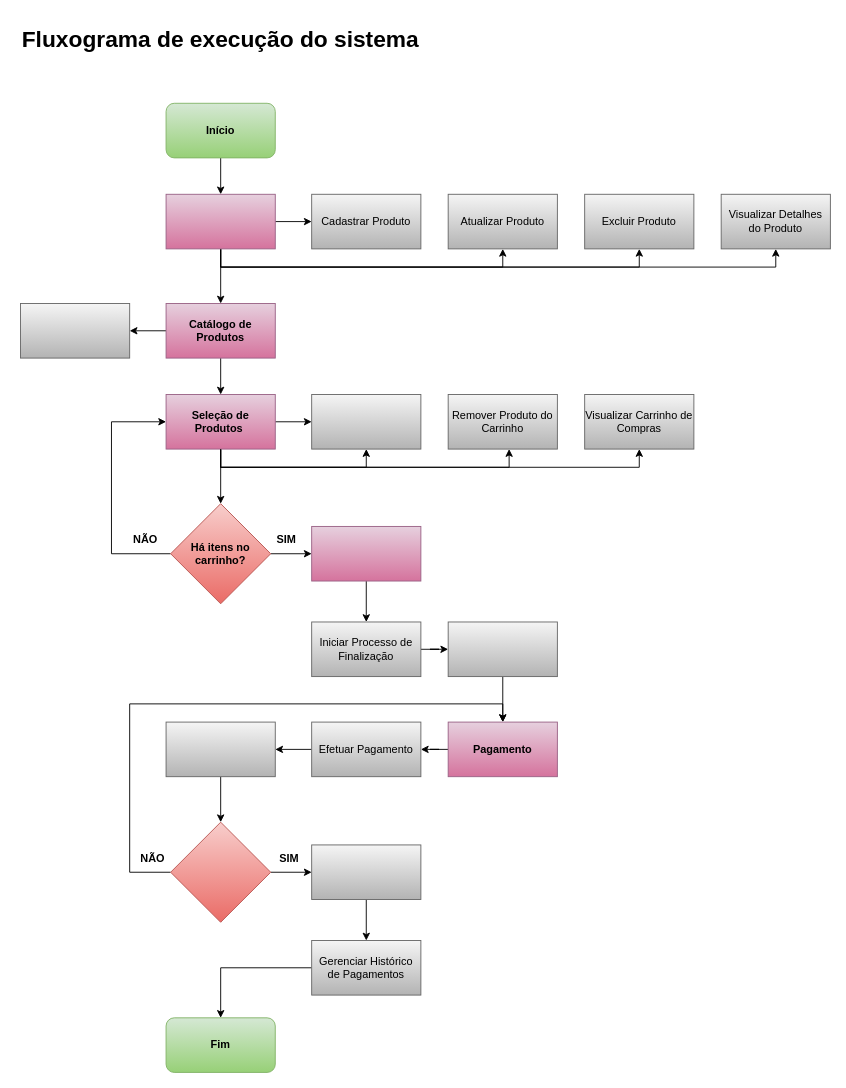
Some shapes in this 846 by 1088 pixel diagram are drawn without their labels. Each missing label, with the centre of its shape:
"Adicionar Produto ao Carrinho" belongs at (x=366, y=421).
"Confirmar Método de Pagamento" belongs at (x=502, y=649).
"Confirmar Pagamento" belongs at (x=366, y=872).
"Finalização do Pedido" belongs at (x=366, y=553).
"Gerenciar Produtos" belongs at (x=220, y=221).
"Pagamento aprovado ?" belongs at (x=220, y=871).
"Validar pagamento" belongs at (x=220, y=749).
"Visualizar Catálogo de Produtos" belongs at (x=75, y=330).
